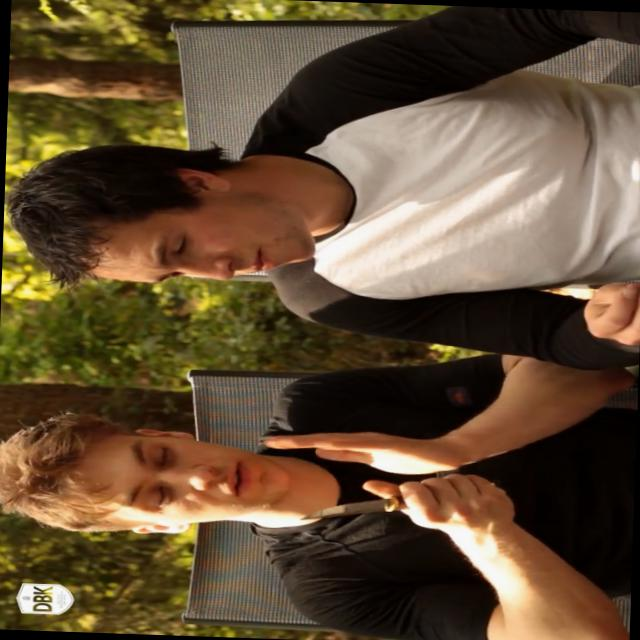knife: (284, 470, 466, 537)
